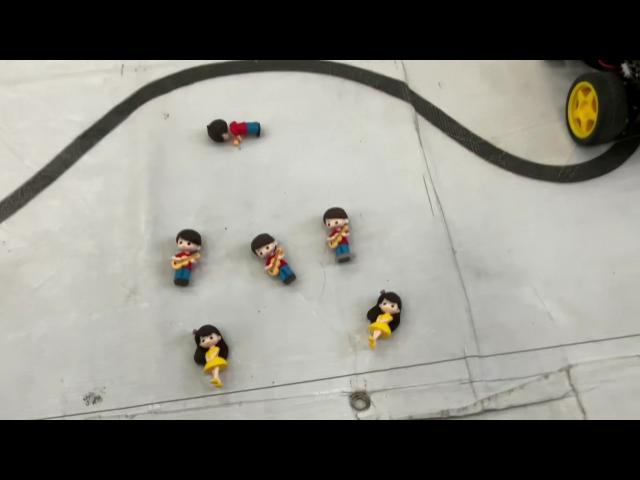man: (248, 229, 302, 288), (319, 204, 357, 266), (170, 224, 202, 292), (204, 117, 262, 149)
woman: (188, 322, 236, 390), (363, 285, 405, 355)
